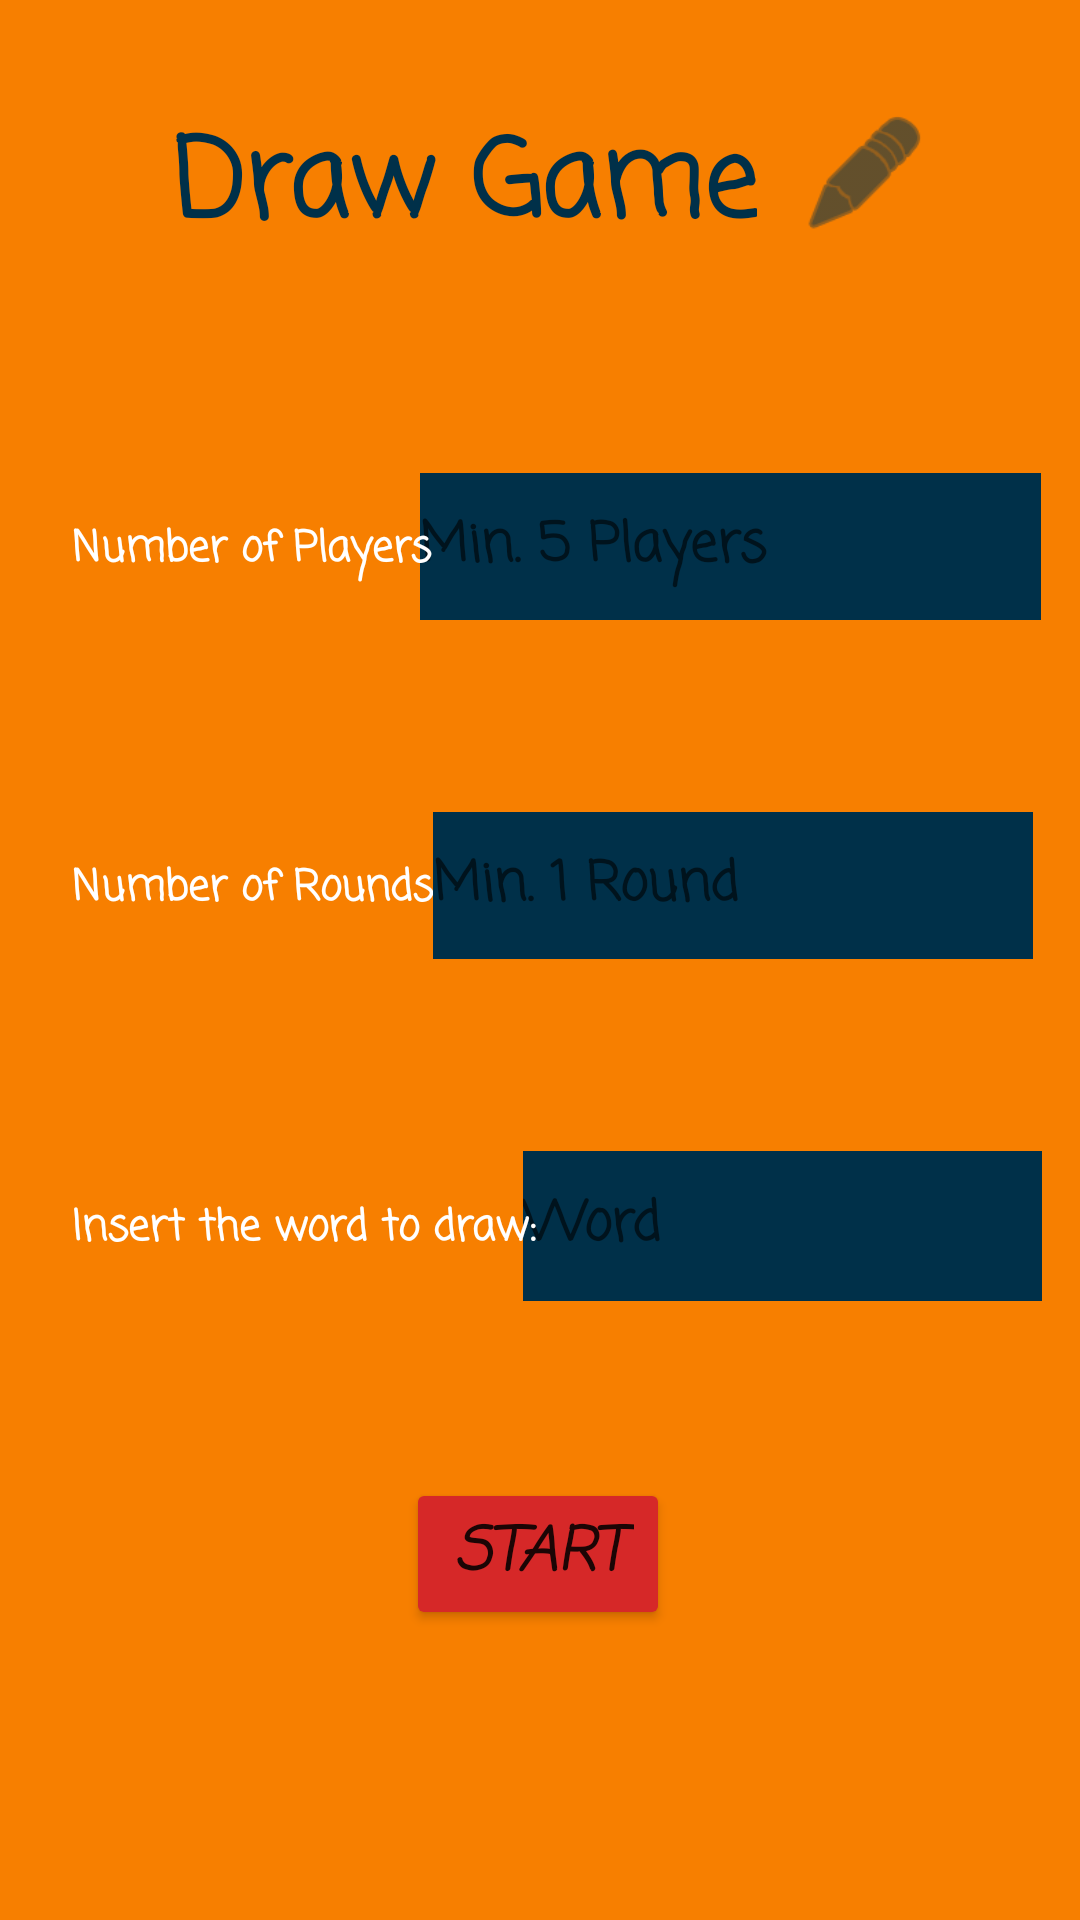

Screen size 1080 x 1920. Icon name, then its box in pixels as box(x1, y1, x2, y2):
Pencil: box(808, 117, 920, 229)
